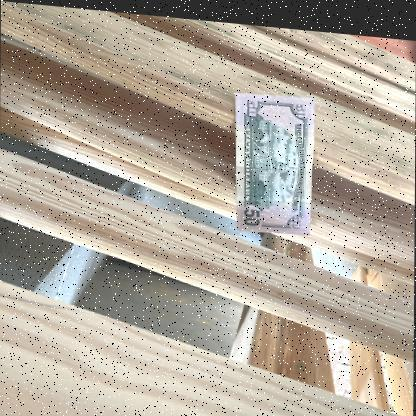fifty-back: (232, 86, 314, 230)
